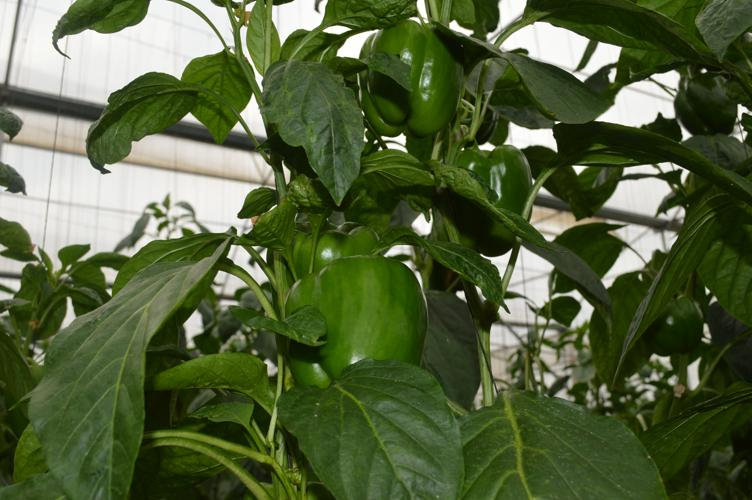BellPepper: (280, 253, 432, 404), (356, 17, 470, 146)
